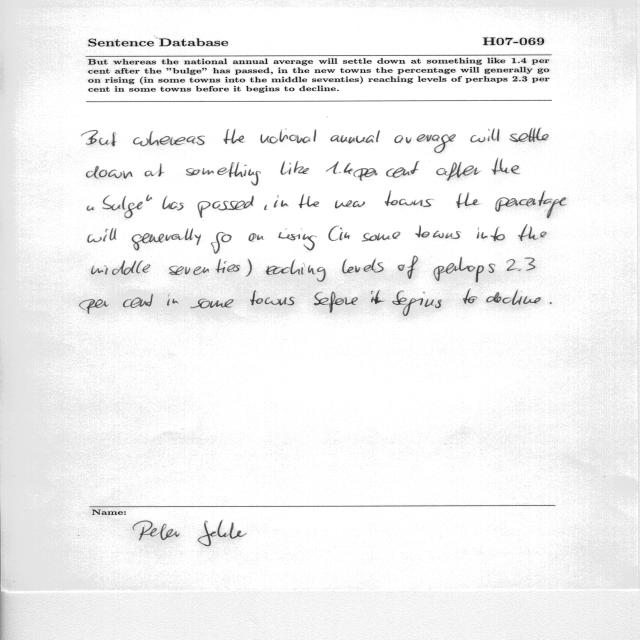word: (495, 191, 567, 218), (186, 162, 261, 186), (132, 229, 201, 251), (266, 260, 326, 282), (433, 257, 484, 282), (197, 196, 254, 218), (392, 291, 442, 316), (394, 134, 456, 153), (169, 259, 240, 275), (133, 132, 205, 147), (314, 291, 358, 313), (102, 195, 143, 218), (92, 260, 151, 275), (278, 229, 317, 251), (261, 129, 317, 144), (436, 162, 480, 181), (486, 290, 541, 305), (489, 257, 536, 273), (385, 191, 431, 207), (330, 130, 380, 144), (250, 291, 295, 306), (415, 225, 461, 239), (342, 259, 384, 274), (87, 166, 133, 179), (386, 161, 419, 178), (82, 130, 117, 146), (509, 128, 549, 142), (518, 224, 547, 241), (492, 158, 520, 175), (211, 232, 232, 254), (398, 256, 418, 279), (79, 299, 109, 314), (191, 299, 234, 309), (88, 228, 116, 243), (123, 294, 153, 308), (471, 129, 500, 143), (280, 161, 309, 175), (477, 227, 505, 241), (456, 192, 480, 208), (362, 232, 400, 242), (326, 161, 353, 174), (224, 129, 245, 144), (354, 168, 378, 181), (163, 196, 184, 210), (299, 194, 319, 208), (145, 164, 164, 177), (335, 201, 365, 209), (328, 226, 343, 241), (463, 289, 477, 304), (371, 290, 385, 304), (274, 195, 288, 208), (248, 233, 264, 242), (246, 259, 252, 277), (167, 299, 178, 306), (344, 232, 350, 239), (146, 195, 152, 201), (87, 206, 94, 211), (264, 205, 267, 210), (550, 302, 552, 304)
